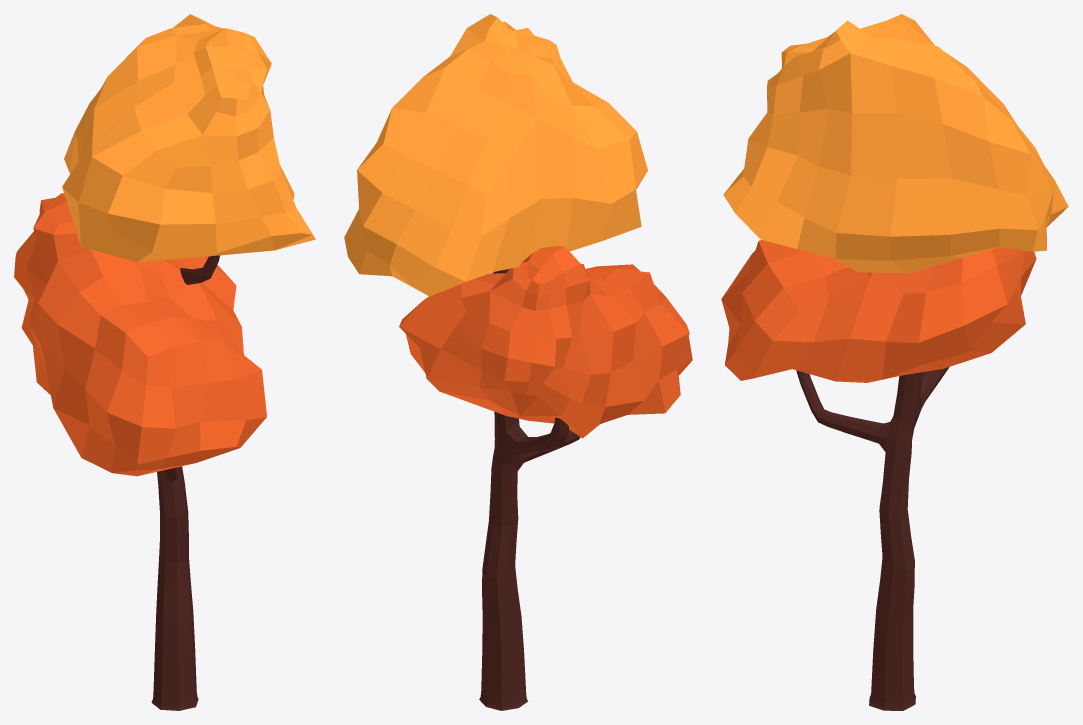
Rendered from prop_CommonTree_Autumn_3.glb.
3 views of the same model, side by side, from view 1: azimuth 30°, elevation 25°; view 2: azimuth 150°, elevation 25°; view 3: azimuth 270°, elevation 25° (orthographic). The views are drawn at different scales.
Visible parts, largest first — view 1: CommonTree_Autumn_3; view 2: CommonTree_Autumn_3; view 3: CommonTree_Autumn_3.
Boxes of the visible parts, box(x1,y1,x2,y2) form: CommonTree_Autumn_3: box(14, 14, 315, 710); CommonTree_Autumn_3: box(344, 14, 692, 710); CommonTree_Autumn_3: box(721, 14, 1068, 710).
Size of the model in its own units: 1.28 by 3.46 by 1.56.
